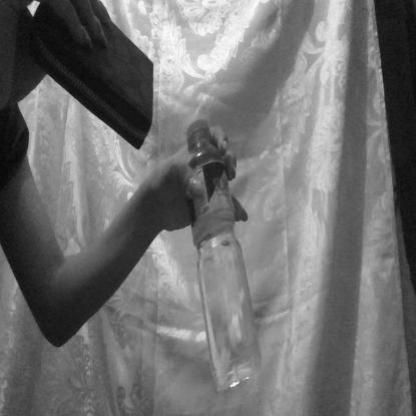Plastic Bottle: (175, 108, 277, 406)
